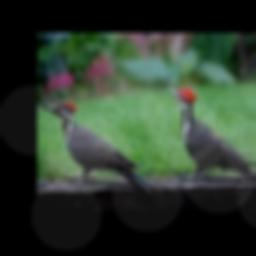Woodpecker: (41, 99, 156, 193), (166, 86, 256, 182)
